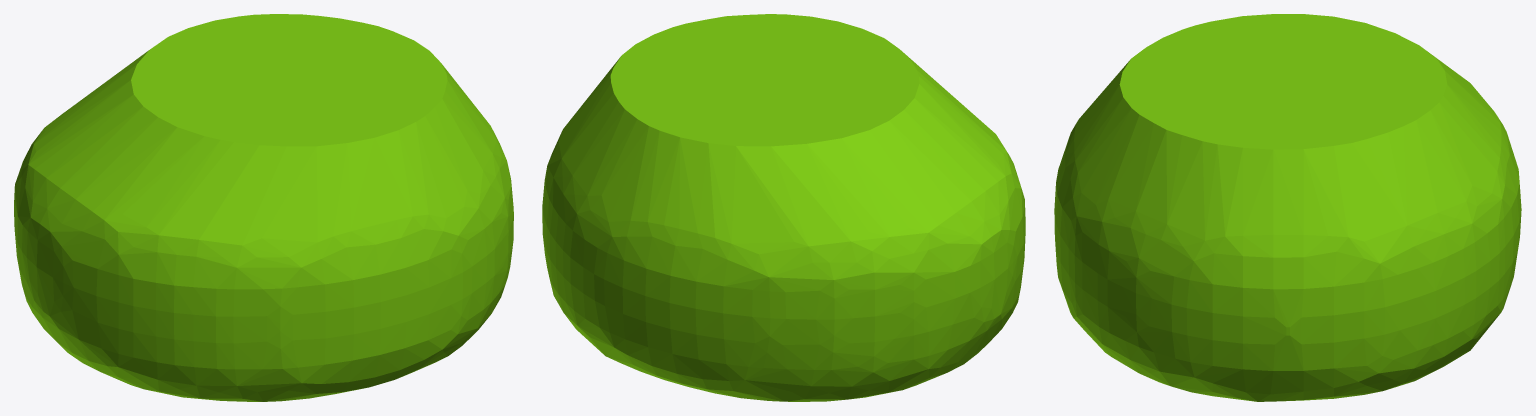
3 views of the same model, side by side, from view 1: azimuth 30°, elevation 25°; view 2: azimuth 150°, elevation 25°; view 3: azimuth 270°, elevation 25° (orthographic). The views are drawn at different scales.
Size of the model in its own units: 0.0335 by 0.0176 by 0.03.
